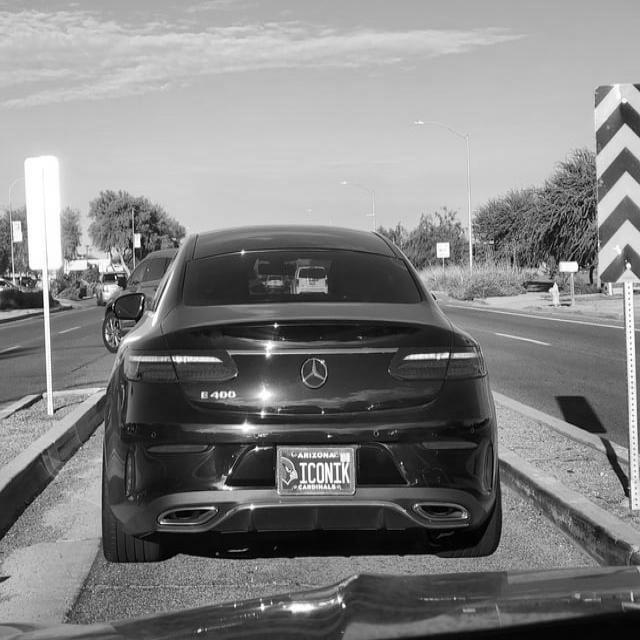LicensePlate: (274, 445, 356, 497)
